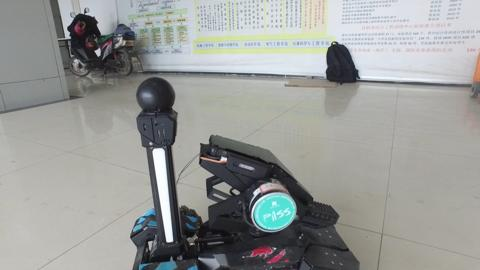chariot: (131, 86, 354, 270)
